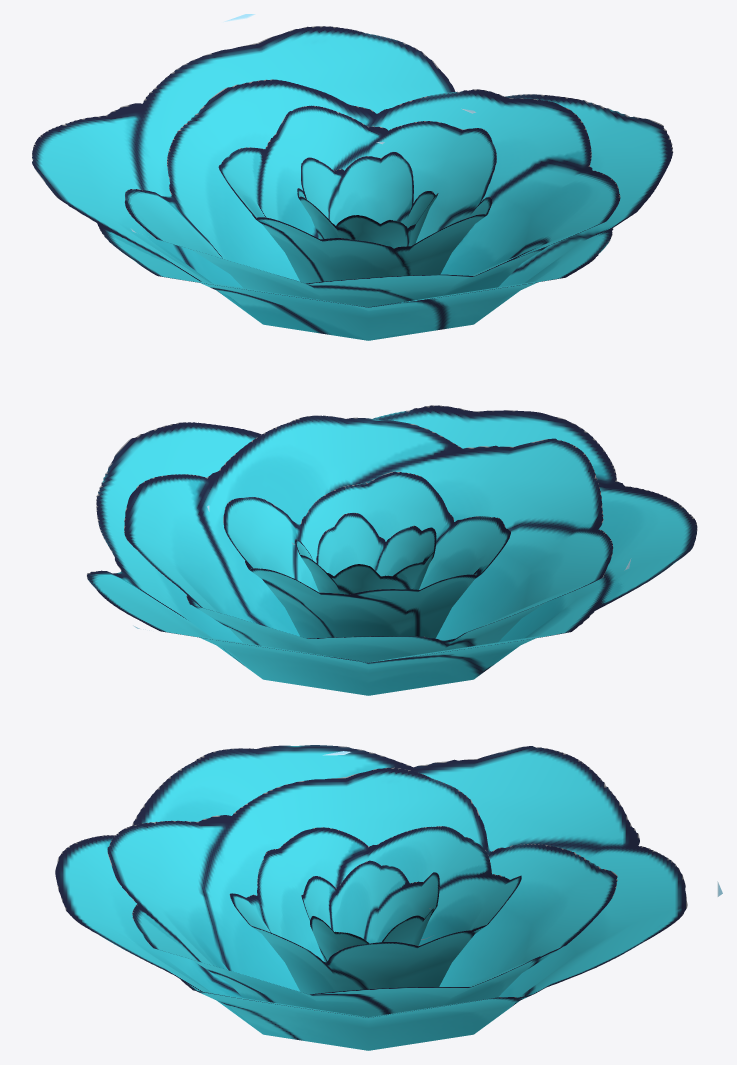
Rendered from BG1-4Boss.fbx.
3 renders of one model, top to bottom at view 1: azimuth 30°, elevation 25°; view 2: azimuth 150°, elevation 25°; view 3: azimuth 270°, elevation 25°, orthographic.
Visible parts, largest first — view 1: Cylinder023, Cylinder024, Cylinder025, Cylinder026; view 2: Cylinder024, Cylinder023, Cylinder025, Cylinder026; view 3: Cylinder023, Cylinder024, Cylinder025, Cylinder026.
Part boxes in pixels (bbox=[...]): Cylinder023: bbox=[32, 14, 673, 340]; Cylinder024: bbox=[124, 79, 620, 307]; Cylinder025: bbox=[218, 105, 496, 283]; Cylinder026: bbox=[297, 141, 438, 248]; Cylinder024: bbox=[124, 415, 631, 662]; Cylinder023: bbox=[87, 405, 697, 695]; Cylinder025: bbox=[207, 471, 510, 638]; Cylinder026: bbox=[291, 512, 436, 594]; Cylinder023: bbox=[55, 745, 722, 1050]; Cylinder024: bbox=[107, 751, 617, 1017]; Cylinder025: bbox=[229, 826, 521, 994]; Cylinder026: bbox=[301, 860, 439, 961].
Size of the model in its own units: 47.44 by 13.39 by 48.17.
1 material, 1 textured.
